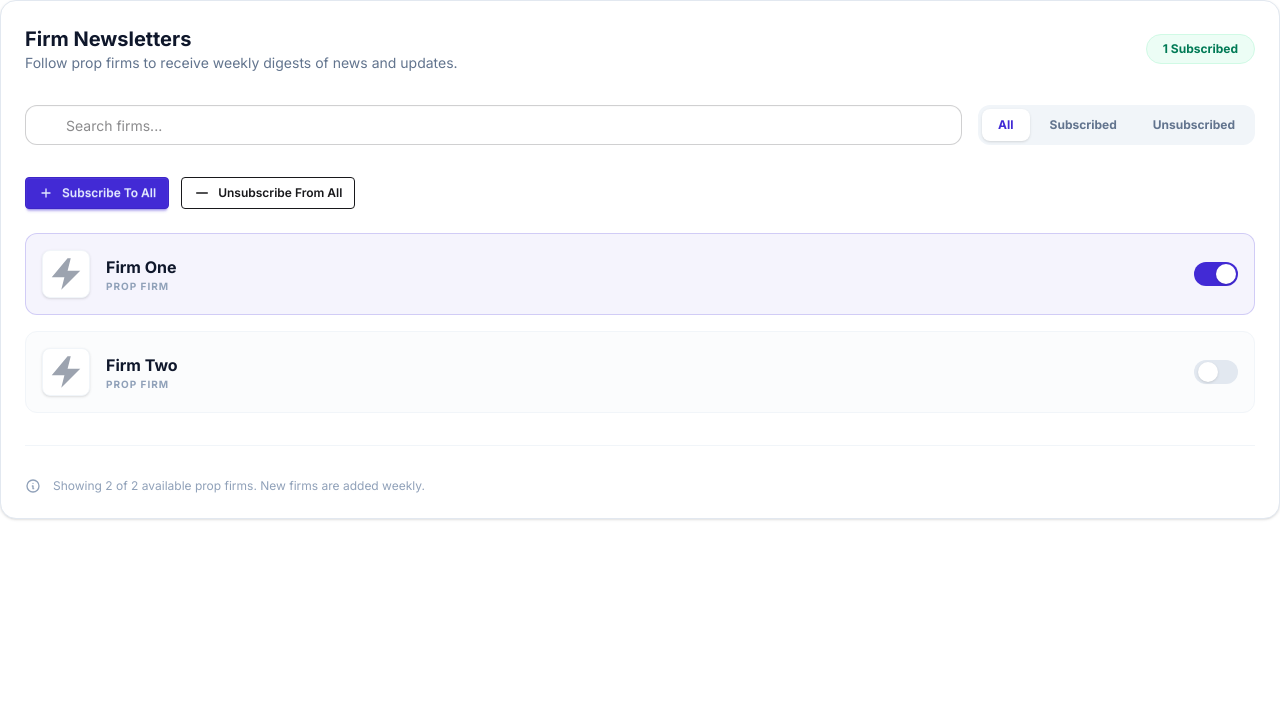
Test case: SubscriptionsSection › filters firms by search
Expected: the heading "Firm One" is shown, x1=106 y1=254 x2=177 y2=278
Type "Two" into the field with placeholder "Search firms..." at (494, 125), box x1=25 y1=105 x2=962 y2=145
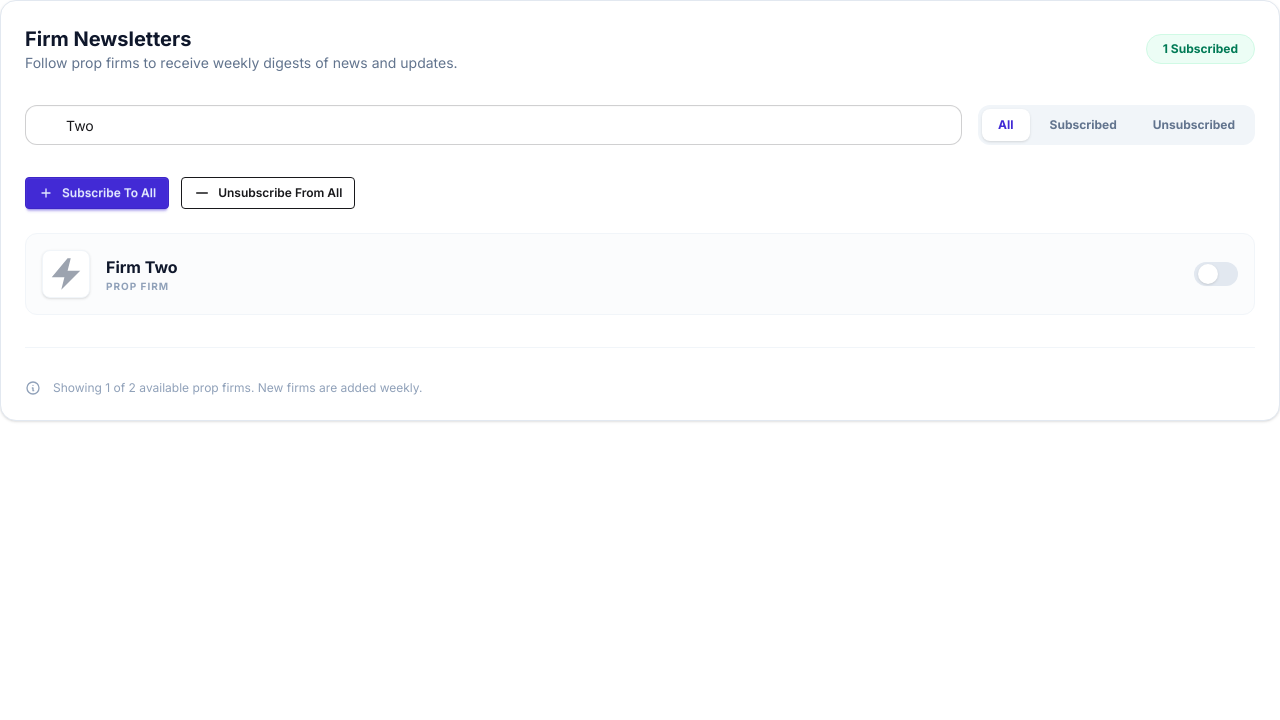
Expected: the heading "Firm Two" is shown, x1=106 y1=254 x2=178 y2=278
Expected: the heading "Firm One" is gone
